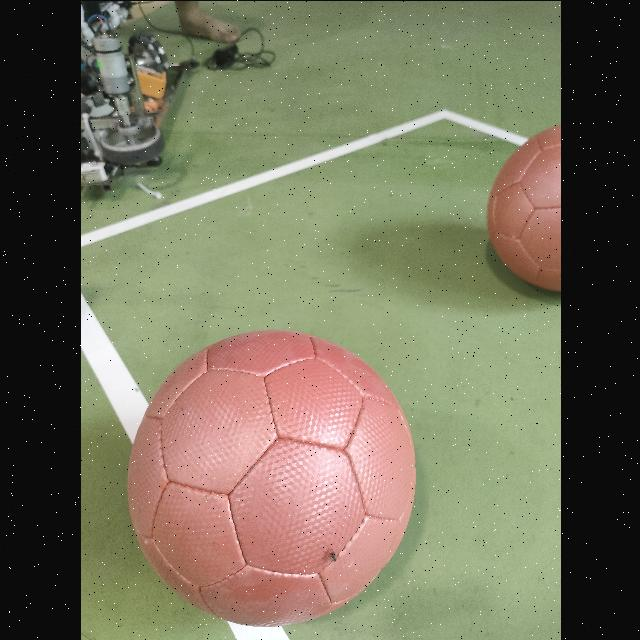R: (127, 330, 416, 624), (486, 123, 560, 293)
